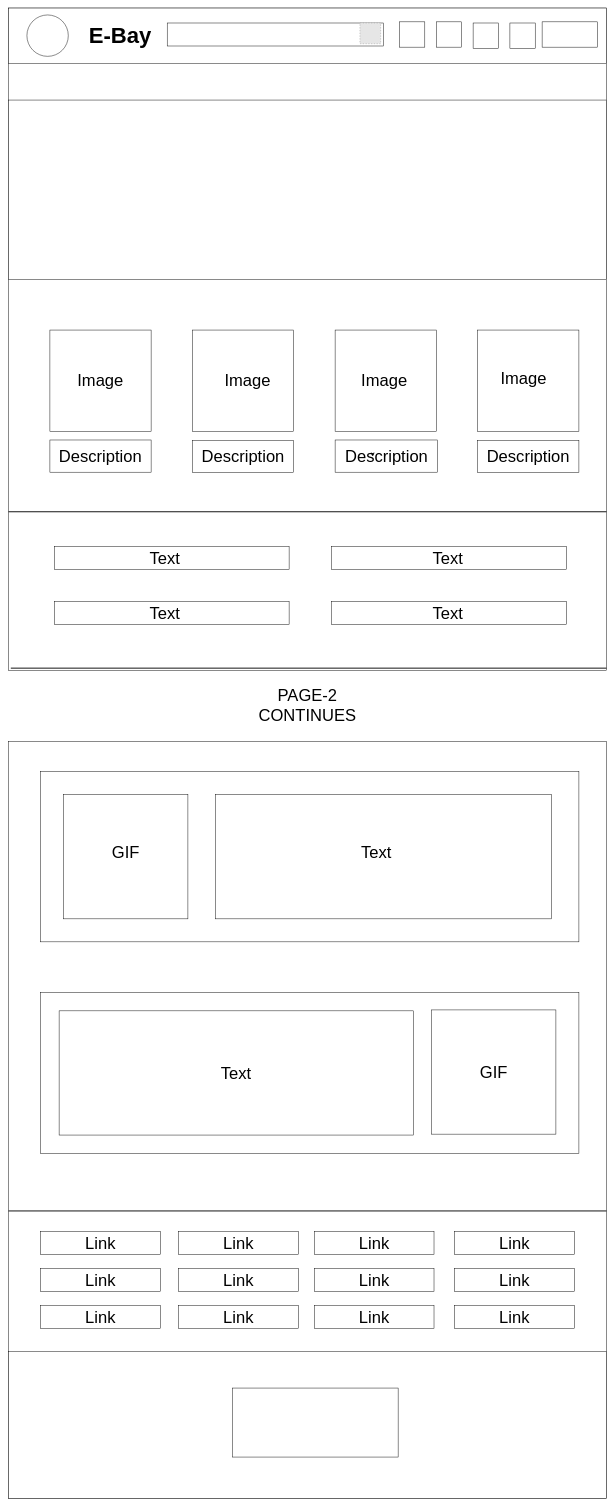
The diagram is 615 pixels wide and 1507 high, and some of its shapes have lost their labels. Grey dashed boxes stand in for pictures. Here are the shapes that lost their labels. From the top down, the centre of each, then its label:
At [47,35]: "Logo".
At [307,189]: "Carousel".
At [315,1422]: "SOCIAL MEDIA LINKS".
